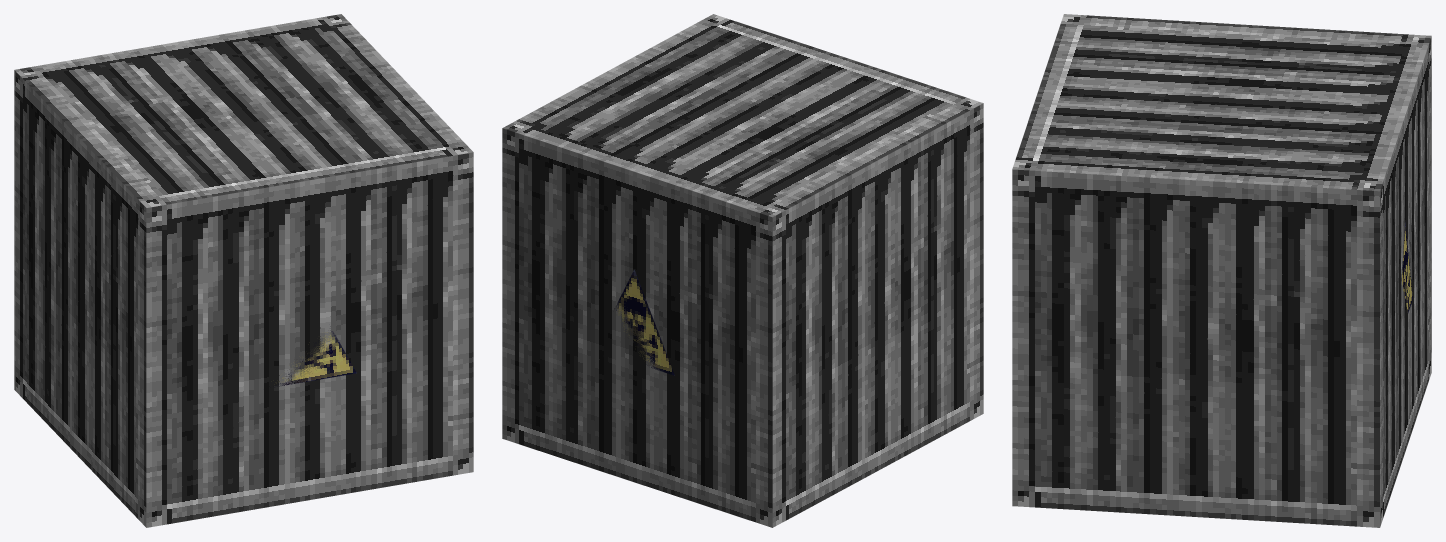
Rendered from primary_033.glb.
The picture shows the model from 3 angles, left to right: view 1: azimuth 30°, elevation 25°; view 2: azimuth 150°, elevation 25°; view 3: azimuth 270°, elevation 25°; orthographic projection. The views are drawn at different scales.
Parts seen in each view (by area): view 1: Object; view 2: Object; view 3: Object.
Boxes of the visible parts, x1=… form: Object: x1=14, y1=14, x2=473, y2=527; Object: x1=502, y1=14, x2=983, y2=527; Object: x1=1012, y1=14, x2=1431, y2=527.
Bounding box in the file's own units: 1.49 × 1.32 × 1.49.
2 materials, 2 textured.
